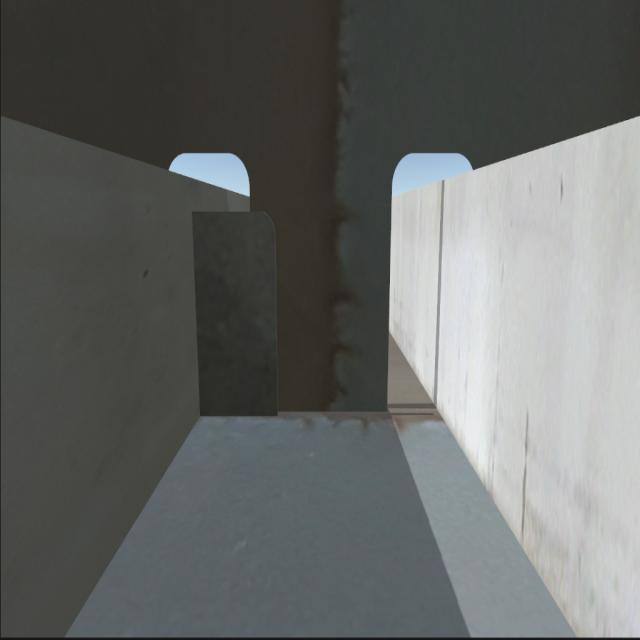fillet_yong_jeop_jang: (204, 409, 390, 420)
longi_yong_jeop_jang: (191, 218, 208, 413)
plate_CP05: (194, 211, 281, 413)
